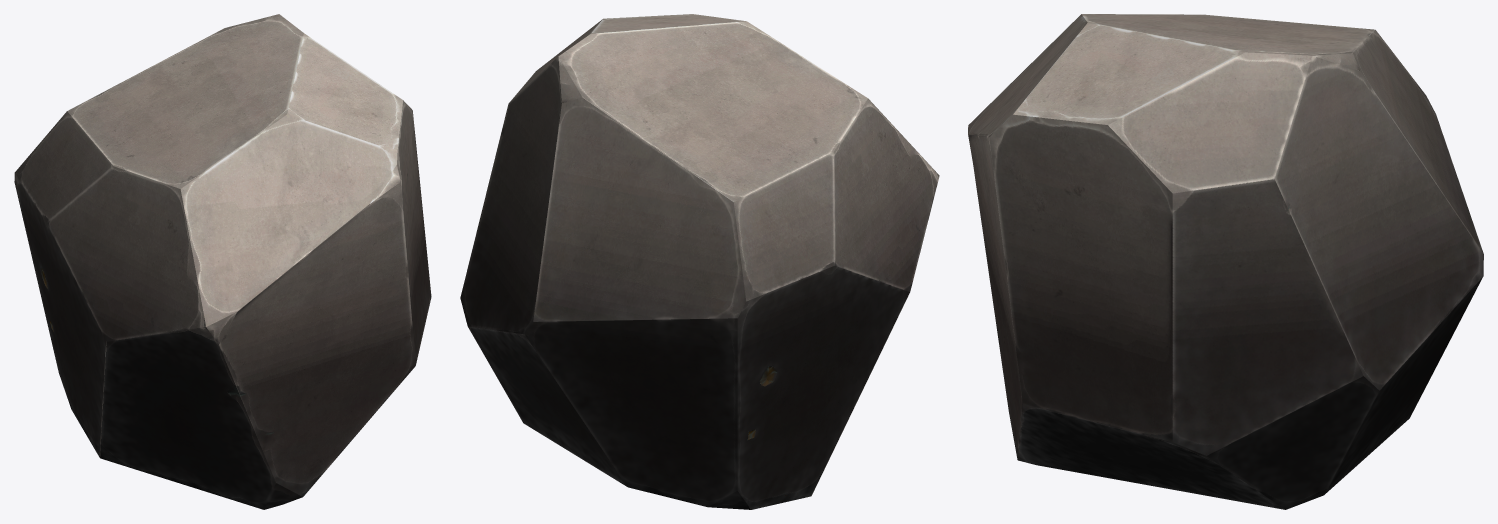
The model's file is rock.gltf.
3 views of the same model, side by side, from view 1: azimuth 30°, elevation 25°; view 2: azimuth 150°, elevation 25°; view 3: azimuth 270°, elevation 25° (orthographic). The views are drawn at different scales.
Parts seen in each view (by area): view 1: Object_26; view 2: Object_26; view 3: Object_26.
Part boxes in pixels (x1,y1,x2,y2): Object_26: (14, 14, 431, 509); Object_26: (460, 14, 939, 509); Object_26: (968, 14, 1483, 509).
Bounding box in the file's own units: 1.11 × 1.21 × 1.16.
1 material, 1 textured.
